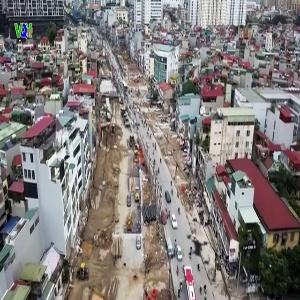drone: (163, 213, 236, 286)
